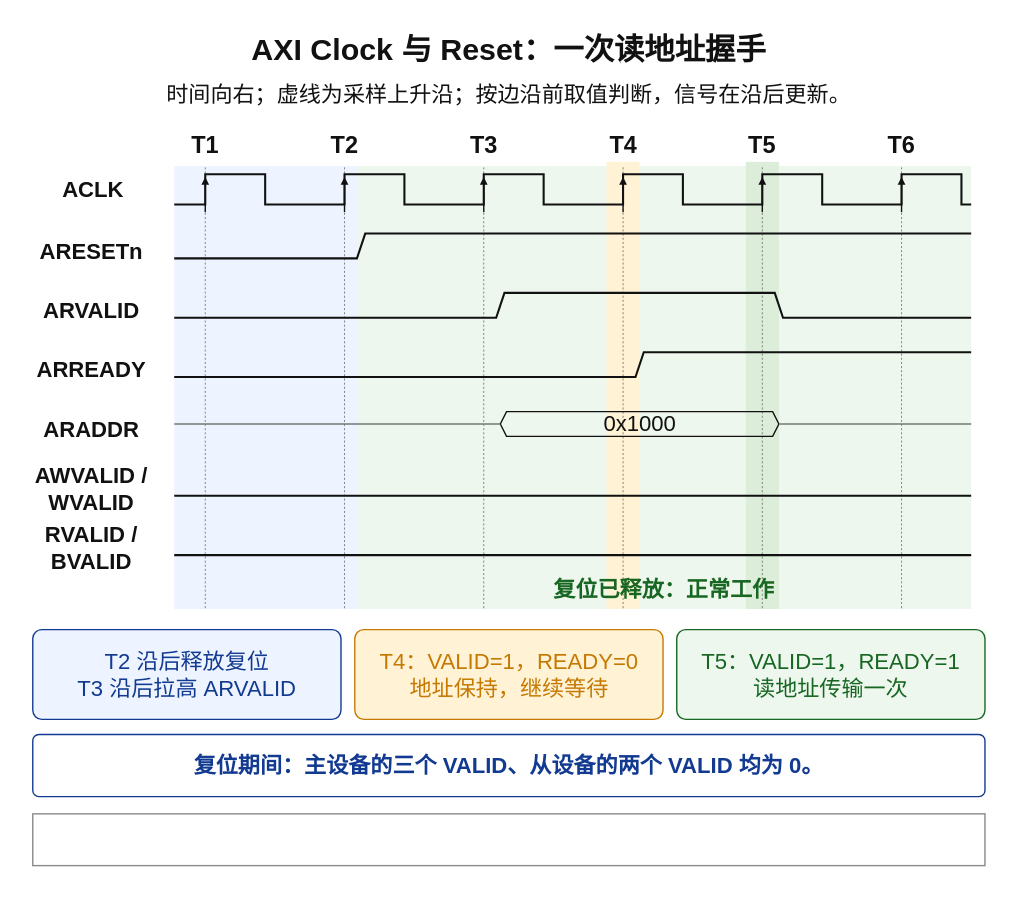
The diagram is 1017 pixels wide and 908 high, and some of its shapes have lost their labels. The shapes that lost their labels are listed below. From the top down, each one's centre as x and y in pixels, then its label:
point 265,387: 复位有效
point 508,839: 主设备驱动 AR；从设备驱动 ARREADY；其余通道空闲，读数据在图外返回。
